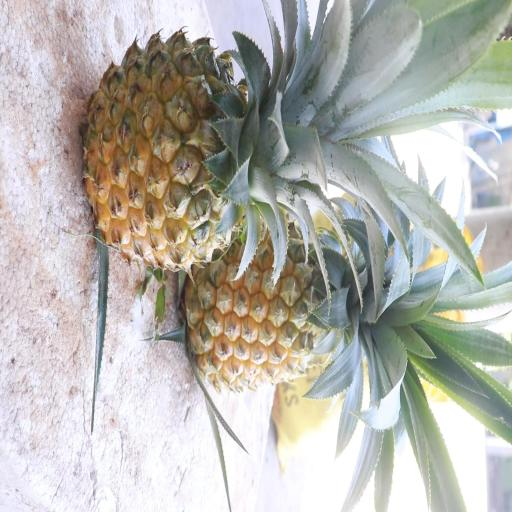Pineapple - v8 v1: (78, 25, 328, 276), (178, 194, 390, 398)
